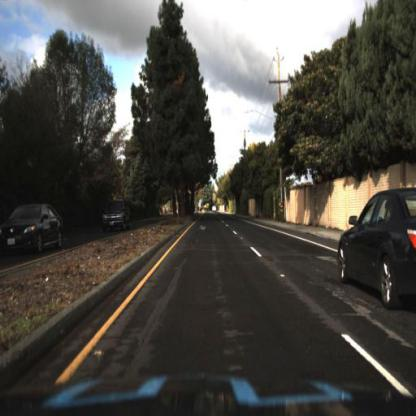car: (338, 189, 416, 309), (1, 202, 67, 259), (103, 196, 132, 234)
